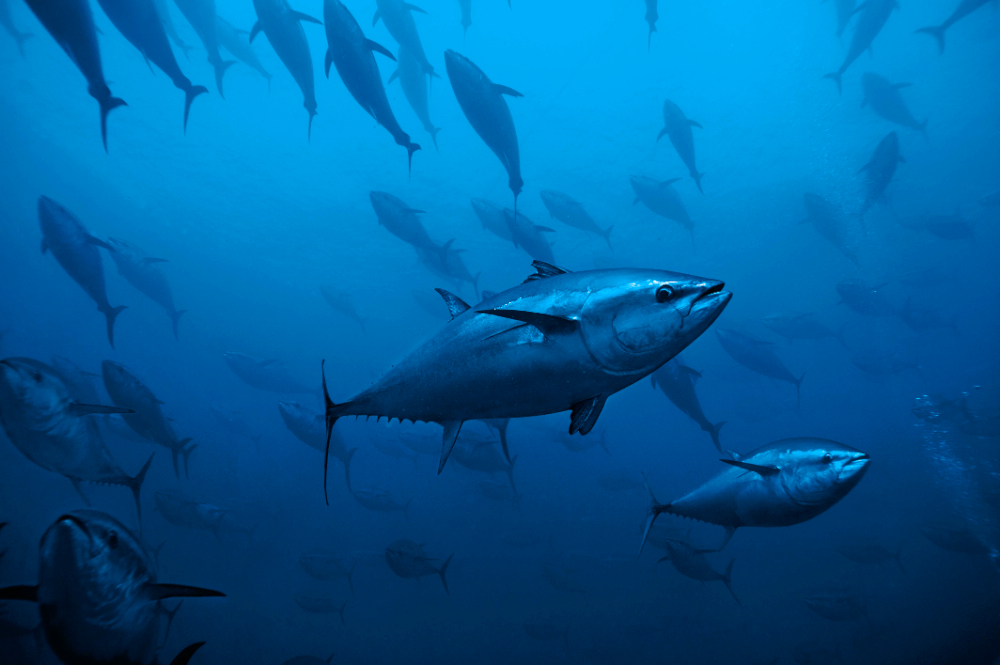Bluefina Tuna: (318, 253, 738, 495)
